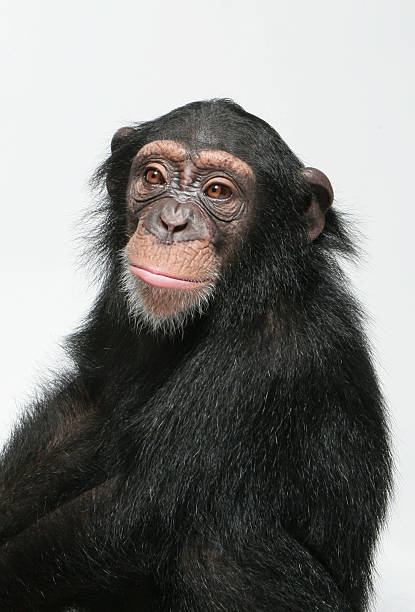chimpanzee: (89, 84, 353, 382)
